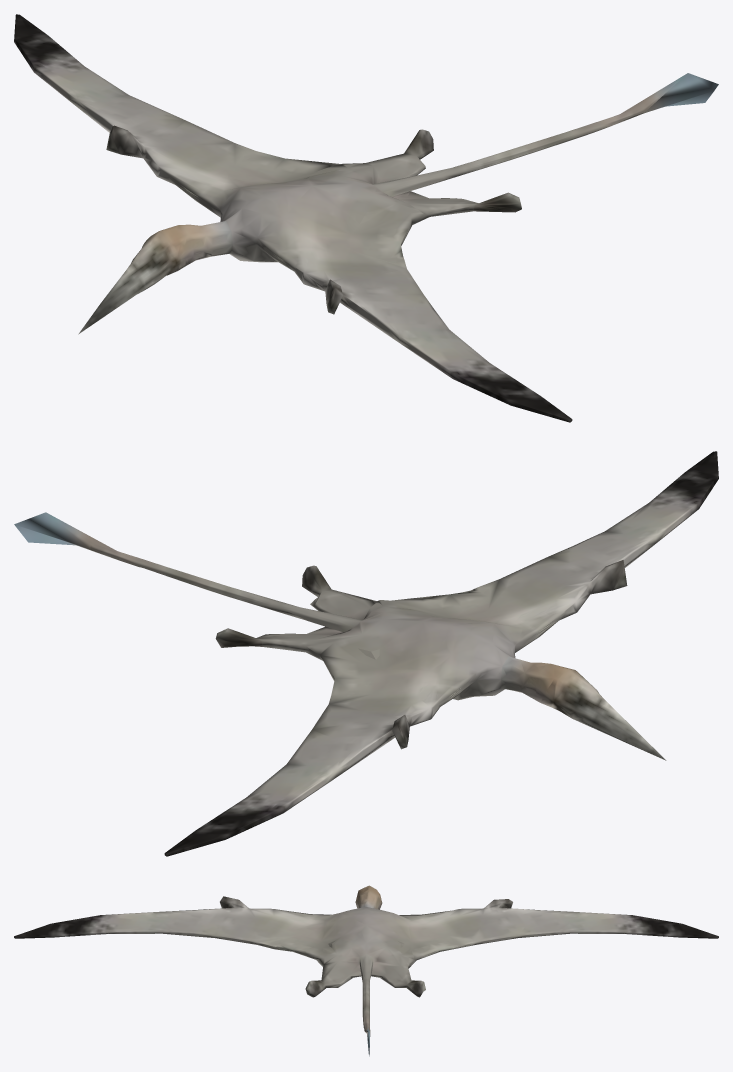
The model's file is nature-rhamphorhynchus.glb.
3 views of the same model, one above another, from view 1: azimuth 30°, elevation 25°; view 2: azimuth 150°, elevation 25°; view 3: azimuth 270°, elevation 25° (orthographic). The views are drawn at different scales.
Visible parts, largest first — view 1: Animal; view 2: Animal; view 3: Animal.
Boxes of the visible parts, x1=… form: Animal: x1=14, y1=14, x2=718, y2=422; Animal: x1=14, y1=451, x2=718, y2=856; Animal: x1=14, y1=885, x2=718, y2=1056.
Size of the model in its own units: 2.16 by 0.3358 by 3.2.
Materials: 1 (1 with a texture image).
